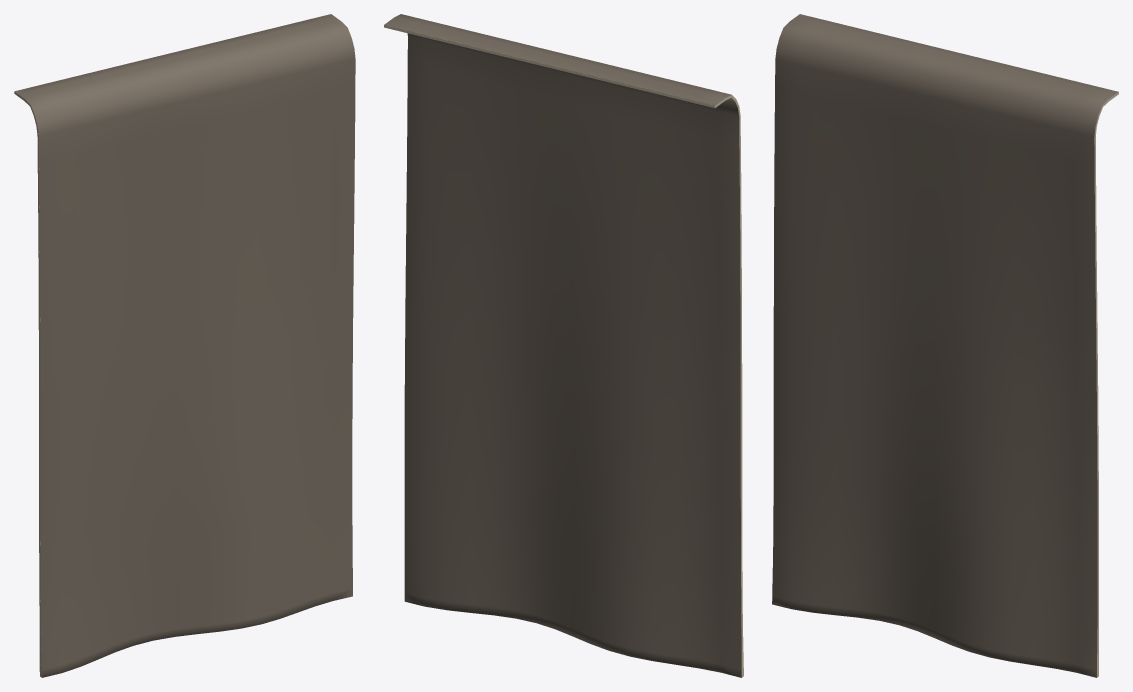
Rendered from kitchen-tea-towel-6c850e8cfe79.glb.
The picture shows the model from 3 angles, left to right: view 1: azimuth 30°, elevation 25°; view 2: azimuth 150°, elevation 25°; view 3: azimuth 330°, elevation 25°; orthographic projection. The views are drawn at different scales.
Parts seen in each view (by area): view 1: cover-cloth, paper; view 2: cover-cloth, paper; view 3: cover-cloth, paper.
Part boxes in pixels (x1=…): cover-cloth: x1=15, y1=14, x2=355, y2=677; paper: x1=14, y1=91, x2=41, y2=677; cover-cloth: x1=384, y1=14, x2=741, y2=677; paper: x1=384, y1=25, x2=743, y2=677; cover-cloth: x1=772, y1=14, x2=1118, y2=677; paper: x1=1094, y1=92, x2=1118, y2=677.
Bounding box in the file's own units: 0.24 × 0.4099 × 0.039.
